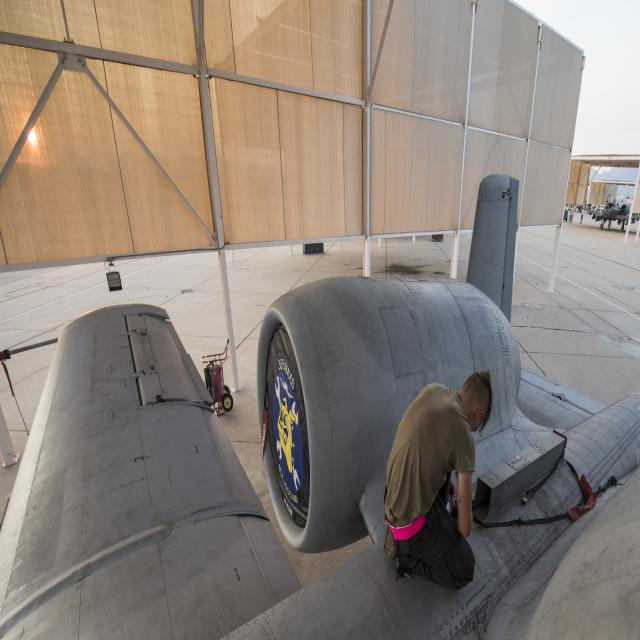MIL_Plane: (0, 173, 639, 640), (580, 194, 640, 232)
